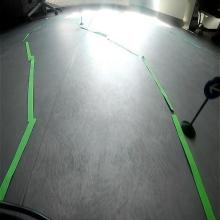left: (204, 75, 220, 102)
